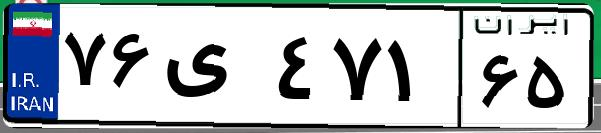1: (385, 28, 445, 110)
4: (270, 28, 330, 110)
5: (525, 38, 570, 115)
6: (475, 38, 525, 113), (110, 28, 158, 98)
7: (330, 28, 385, 110), (57, 26, 110, 100)
ی: (158, 20, 270, 120)
